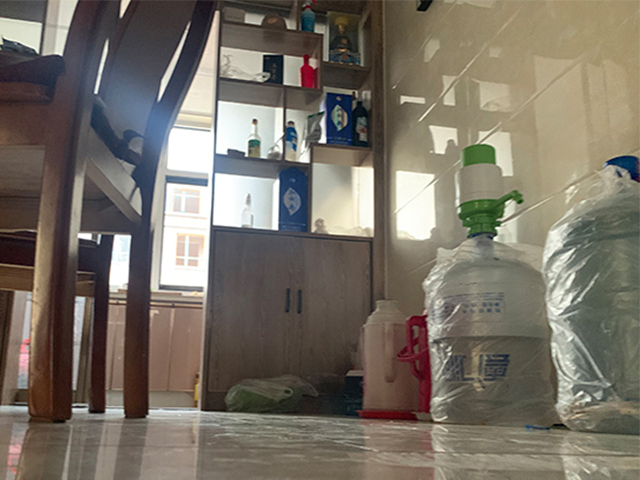cabinet: (201, 223, 383, 411), (106, 290, 203, 407)
stool: (1, 1, 214, 424)
